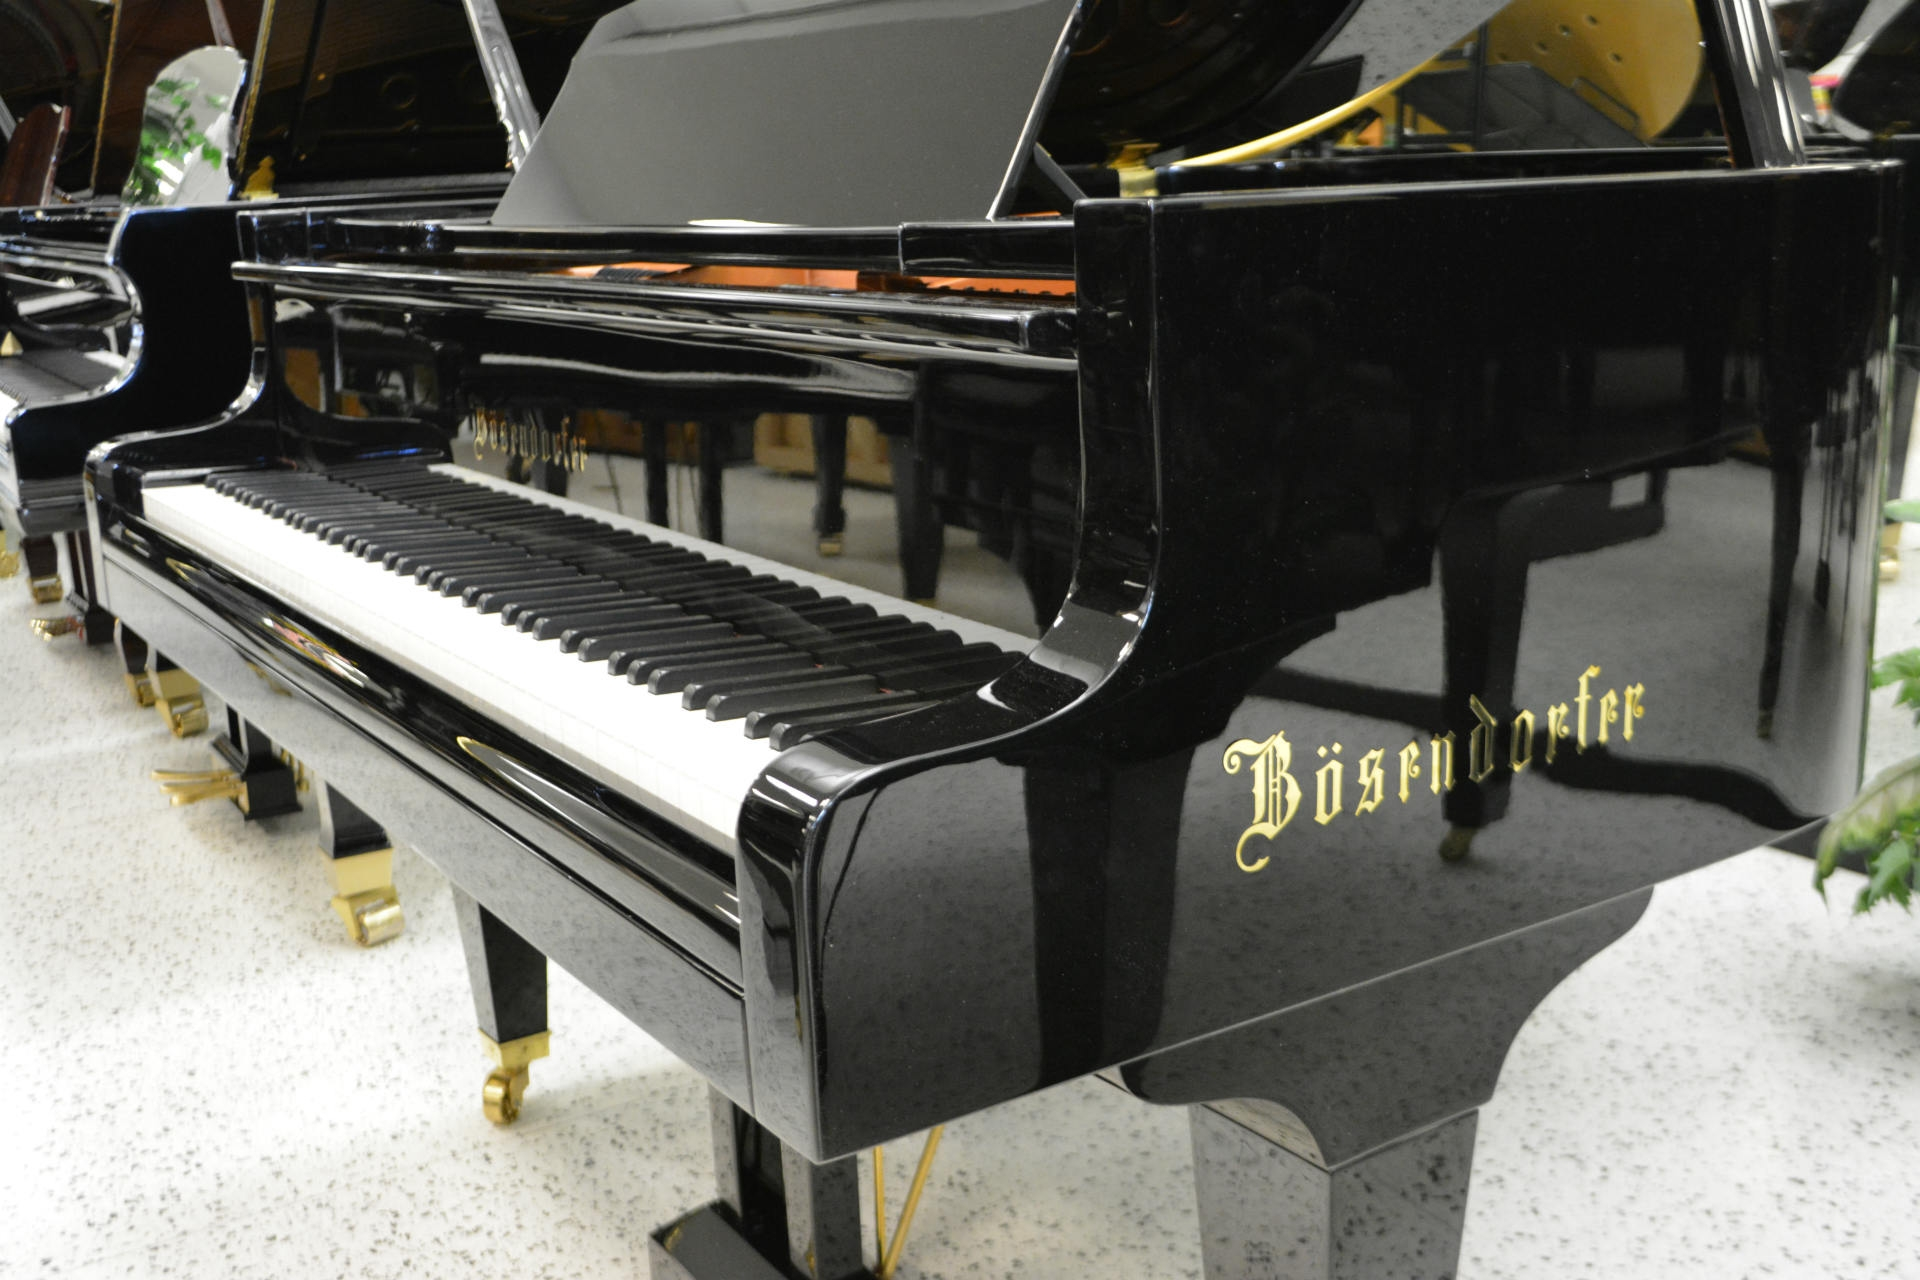GrandPiano: (49, 33, 1894, 984)
